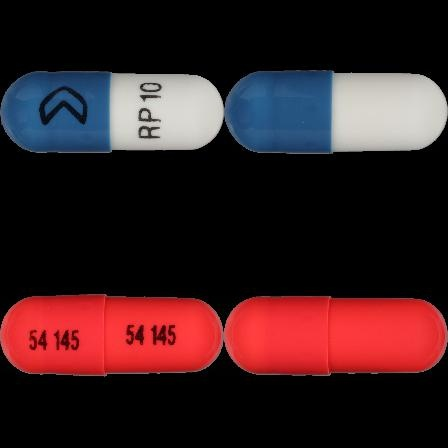63629-1253: (0, 0, 224, 224)
